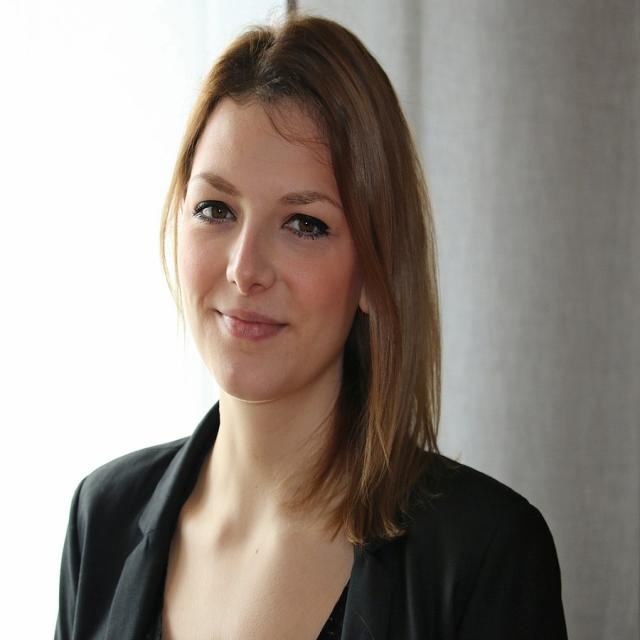mobile_phonerotation: (52, 12, 568, 638)
